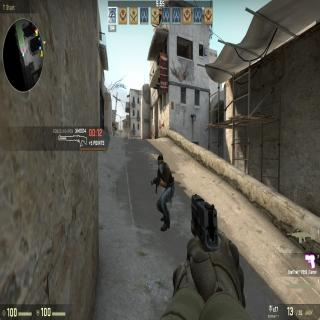T-Body: (154, 152, 176, 232)
T-Head: (157, 154, 164, 170)
